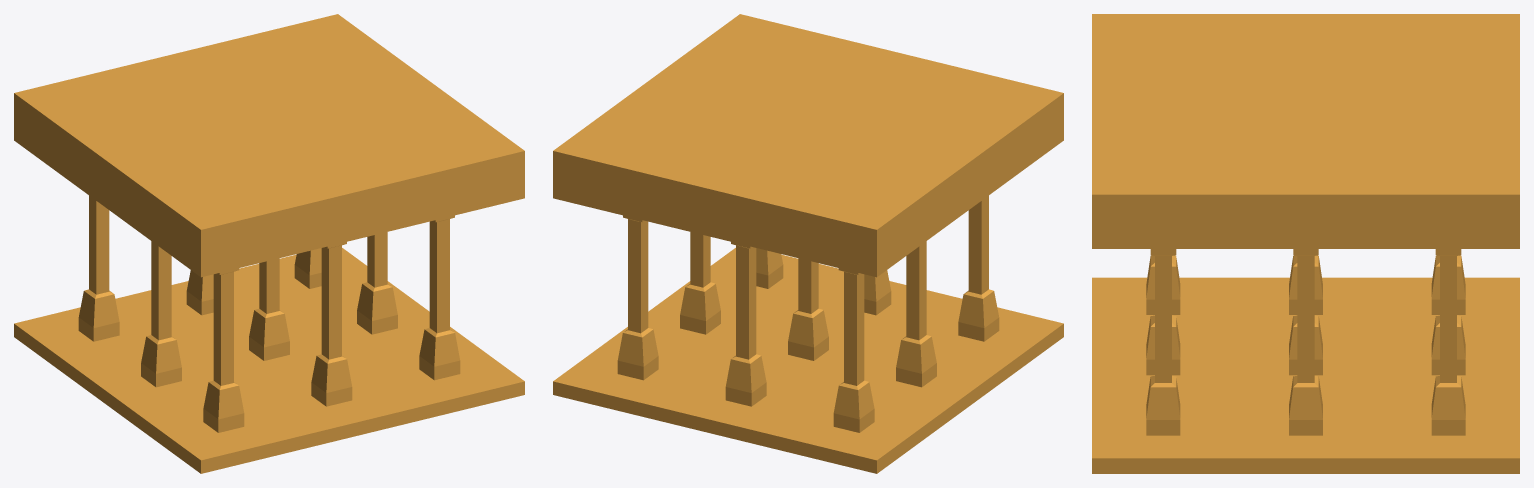
Rendered from hindu-pillars-middle.fbx.
3 renders of one model, left to right at view 1: azimuth 30°, elevation 25°; view 2: azimuth 150°, elevation 25°; view 3: azimuth 270°, elevation 25°, orthographic. The views are drawn at different scales.
Visible parts, largest first — view 1: hindu-pillars-middle; view 2: hindu-pillars-middle; view 3: hindu-pillars-middle.
Boxes of the visible parts, x1,y1,x2,y2 form: hindu-pillars-middle: [14, 14, 524, 473]; hindu-pillars-middle: [553, 14, 1063, 473]; hindu-pillars-middle: [1092, 14, 1519, 473].
Bounding box in the file's own units: 5 × 3.6 × 5.
